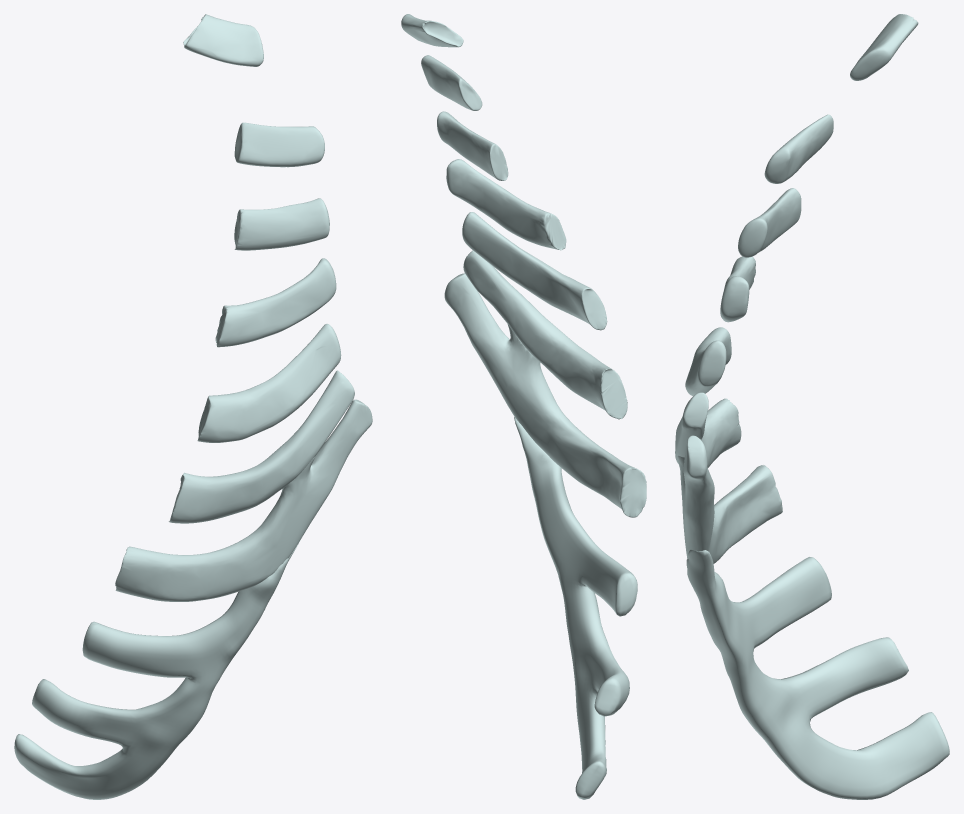
Rendered from Costal_cartilages.r_Generated_Mesh_From_X3D.108.glb.
3 renders of one model, left to right at view 1: azimuth 30°, elevation 25°; view 2: azimuth 150°, elevation 25°; view 3: azimuth 270°, elevation 25°, orthographic. The views are drawn at different scales.
Visible parts, largest first — view 1: Costal_cartilages.r_Generated_Mesh_From_X3D.108; view 2: Costal_cartilages.r_Generated_Mesh_From_X3D.108; view 3: Costal_cartilages.r_Generated_Mesh_From_X3D.108.
Boxes of the visible parts, x1,y1,x2,y2 form: Costal_cartilages.r_Generated_Mesh_From_X3D.108: [14, 14, 372, 799]; Costal_cartilages.r_Generated_Mesh_From_X3D.108: [401, 14, 646, 799]; Costal_cartilages.r_Generated_Mesh_From_X3D.108: [675, 14, 949, 799].
Size of the model in its own units: 0.1213 by 0.3348 by 0.0967.
